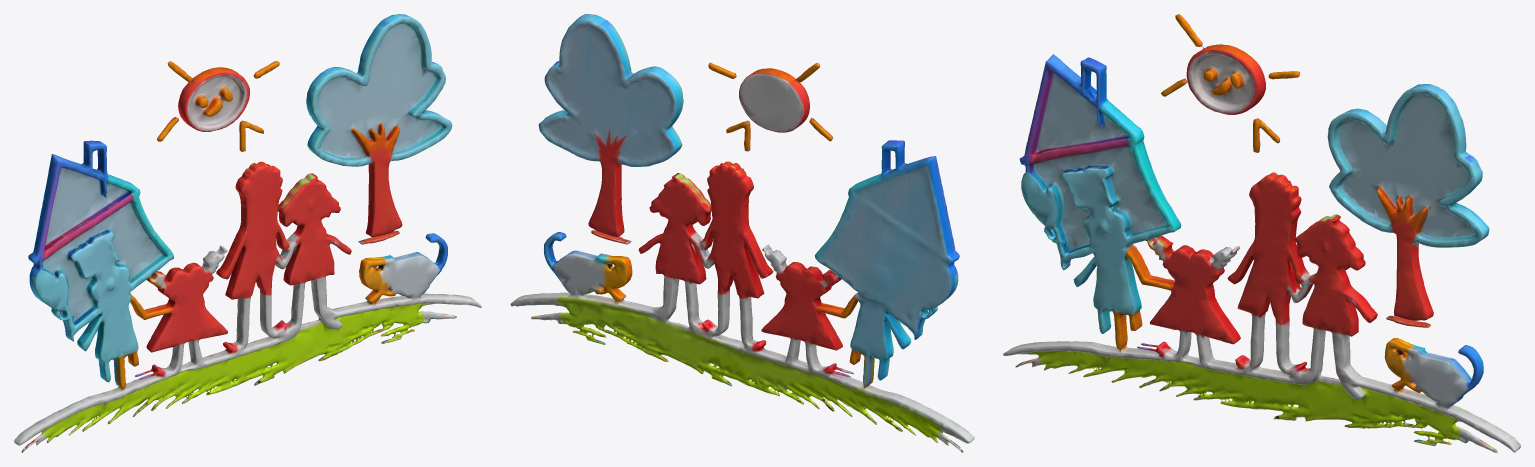
The picture shows the model from 3 angles, left to right: view 1: azimuth 30°, elevation 25°; view 2: azimuth 150°, elevation 25°; view 3: azimuth 330°, elevation 25°; orthographic projection. The views are drawn at different scales.
Bounding box in the file's own units: 1.91 × 1.4 × 0.0597.
Materials: 1 (1 with a texture image).
